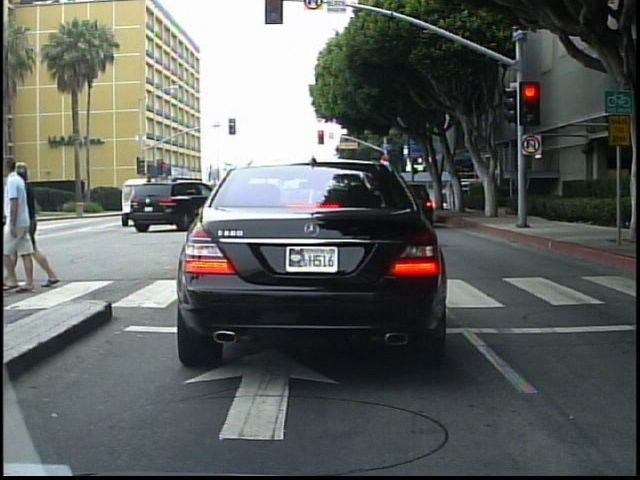person: (8, 150, 58, 297), (19, 153, 49, 294), (443, 180, 455, 212)
